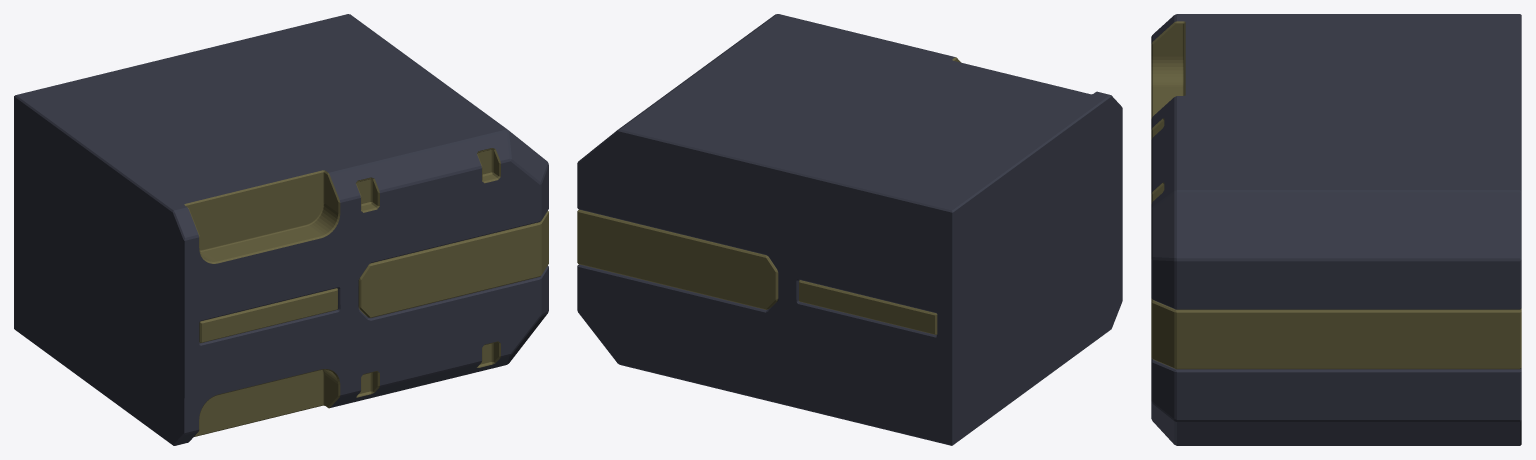
Rendered from 立方体_457.fbx.
The picture shows the model from 3 angles, left to right: view 1: azimuth 30°, elevation 25°; view 2: azimuth 150°, elevation 25°; view 3: azimuth 270°, elevation 25°; orthographic projection. The views are drawn at different scales.
Visible parts, largest first — view 1: 立方体.457; view 2: 立方体.457; view 3: 立方体.457.
Part boxes in pixels (x1,y1,x2,y2): 立方体.457: [14, 14, 548, 445]; 立方体.457: [577, 14, 1122, 445]; 立方体.457: [1151, 14, 1521, 445].
Size of the model in its own units: 2.67 by 1.6 by 2.09.
